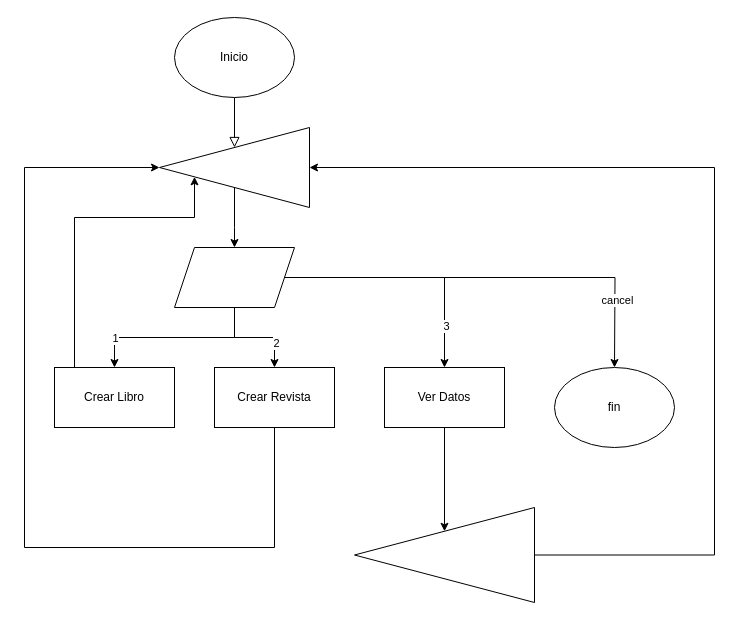
The diagram is 740 pixels wide and 620 high, and some of its shapes have lost their labels. The shapes that lost their labels are listed below. From the top down, each one's centre as x and y in pixels, then its label:
the point at 234,167: Menu
the point at 234,277: opcion
the point at 444,554: Mostar Arrays de Libros y Revistas
